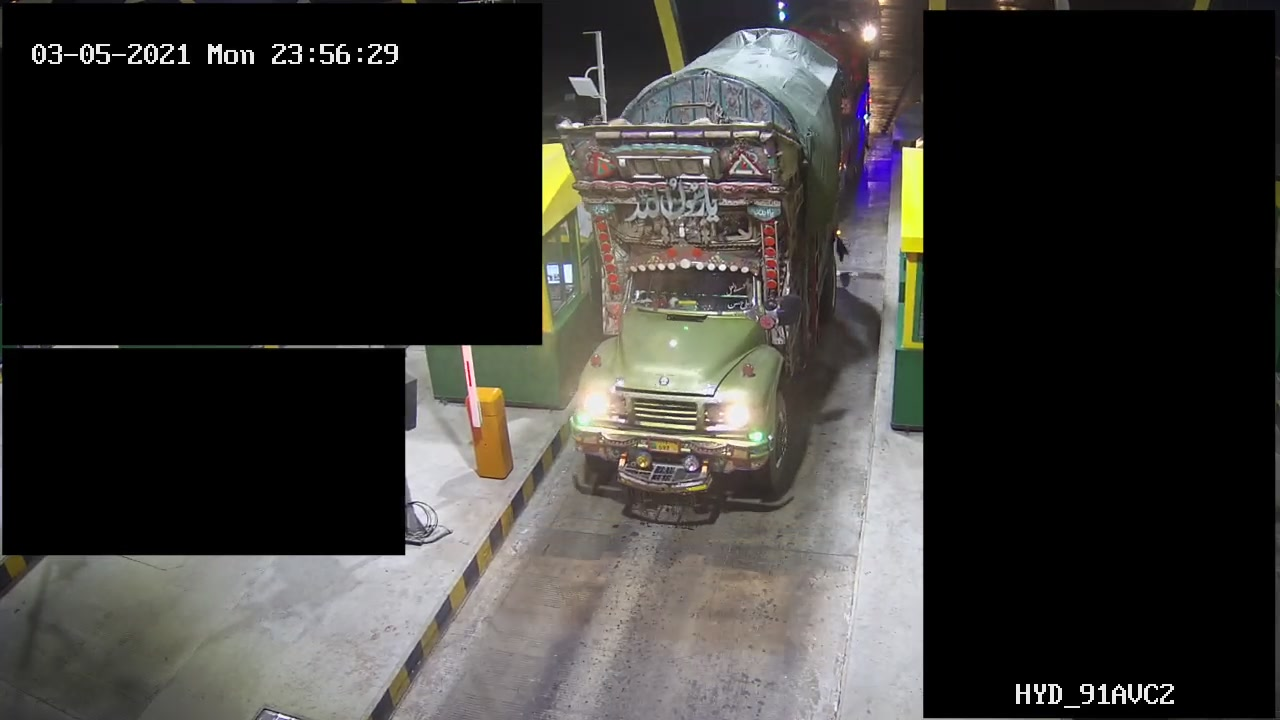F5: (563, 35, 848, 501)
